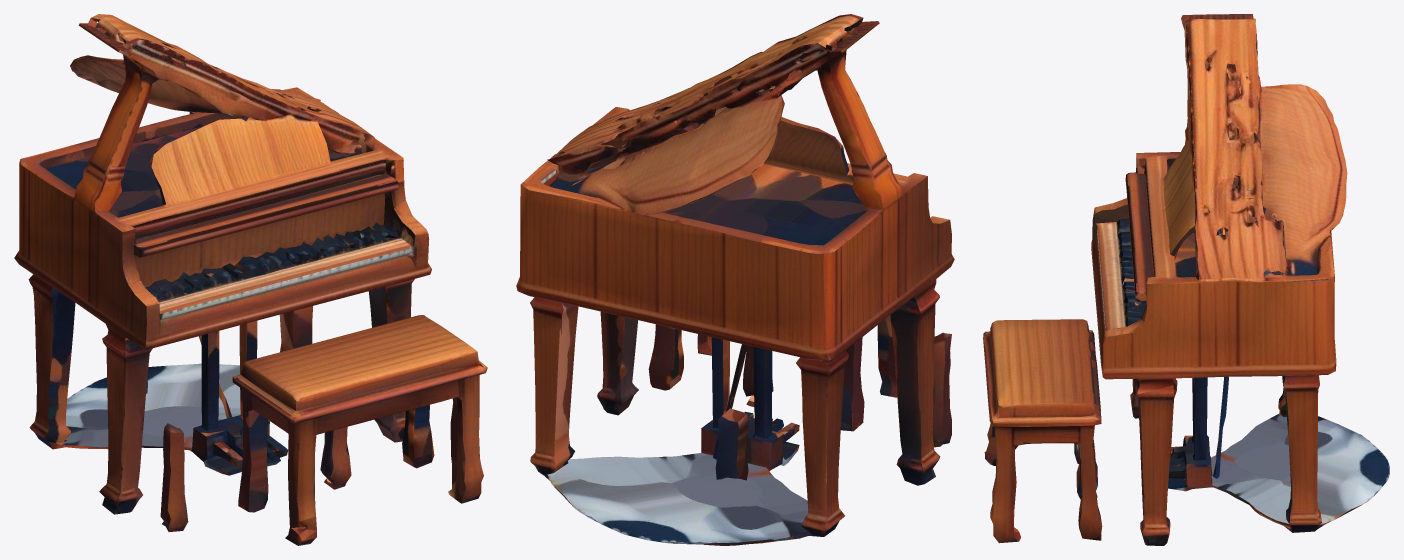
The model's file is piano.glb.
3 views of the same model, side by side, from view 1: azimuth 30°, elevation 25°; view 2: azimuth 150°, elevation 25°; view 3: azimuth 270°, elevation 25° (orthographic). The views are drawn at different scales.
Visible parts, largest first — view 1: piano; view 2: piano; view 3: piano.
Boxes of the visible parts, x1,y1,x2,y2 form: piano: (14,14,487,545); piano: (516,14,954,545); piano: (983,14,1389,545).
Size of the model in its own units: 0.7207 by 1 by 0.8914.
Materials: 1 (1 with a texture image).
